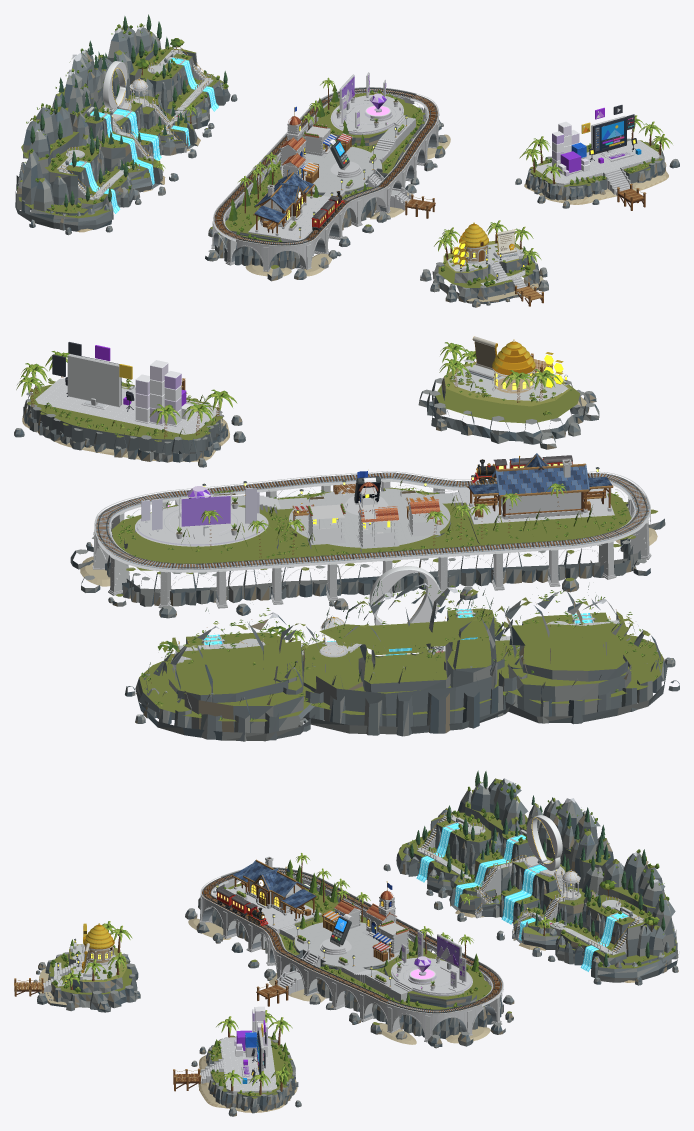
File: buildshore_web_draco.glb
3 renders of one model, top to bottom at view 1: azimuth 30°, elevation 25°; view 2: azimuth 150°, elevation 25°; view 3: azimuth 270°, elevation 25°, orthographic. The views are drawn at different scales.
Parts seen in each view (by area): view 1: Batch | Qoves_Root, Batch | Buildshore_MainIsland_Root, Batch | GEL_Root, Batch | BeeSigned_Root, Batch | ChooChooChain_Station_Root, GEL Editor | Monitor screen, QVS Logo | Qoves sculpted loop, Batch | GEL_Editor_Root; view 2: Batch | Qoves_Root, Batch | Buildshore_MainIsland_Root, Batch | GEL_Root, Batch | BeeSigned_Root, Batch | ChooChooChain_Station_Root, Batch | GEL_Editor_Root, QVS Logo | Qoves sculpted loop, UIUX Works | Hero display screen, Batch | BeeSigned | Signing parchment monument; view 3: Batch | Qoves_Root, Batch | Buildshore_MainIsland_Root, Batch | GEL_Root, Batch | BeeSigned_Root, Batch | ChooChooChain_Station_Root, QVS Logo | Qoves sculpted loop.
Boxes of the visible parts, left/top/right/bottom form: Batch | Qoves_Root: left=15, top=14, right=237, bottom=235; Batch | Buildshore_MainIsland_Root: left=205, top=72, right=450, bottom=281; Batch | GEL_Root: left=515, top=115, right=679, bottom=210; Batch | BeeSigned_Root: left=420, top=220, right=548, bottom=307; Batch | ChooChooChain_Station_Root: left=253, top=170, right=314, bottom=235; GEL Editor | Monitor screen: left=595, top=119, right=625, bottom=152; QVS Logo | Qoves sculpted loop: left=103, top=61, right=127, bottom=108; Batch | GEL_Editor_Root: left=589, top=116, right=637, bottom=161; Batch | Qoves_Root: left=125, top=578, right=679, bottom=741; Batch | Buildshore_MainIsland_Root: left=70, top=467, right=665, bottom=618; Batch | GEL_Root: left=14, top=351, right=245, bottom=467; Batch | BeeSigned_Root: left=418, top=339, right=599, bottom=449; Batch | ChooChooChain_Station_Root: left=467, top=453, right=613, bottom=519; Batch | GEL_Editor_Root: left=65, top=354, right=134, bottom=411; QVS Logo | Qoves sculpted loop: left=369, top=566, right=440, bottom=623; UIUX Works | Hero display screen: left=181, top=496, right=230, bottom=526; Batch | BeeSigned | Signing parchment monument: left=468, top=336, right=500, bottom=380; Batch | Qoves_Root: left=383, top=770, right=678, bottom=985; Batch | Buildshore_MainIsland_Root: left=185, top=853, right=514, bottom=1048; Batch | GEL_Root: left=173, top=1010, right=301, bottom=1116; Batch | BeeSigned_Root: left=14, top=921, right=140, bottom=1012; Batch | ChooChooChain_Station_Root: left=232, top=856, right=317, bottom=921; QVS Logo | Qoves sculpted loop: left=526, top=815, right=562, bottom=861.
Bounding box in the file's own units: 89.97 × 16.46 × 92.03.
